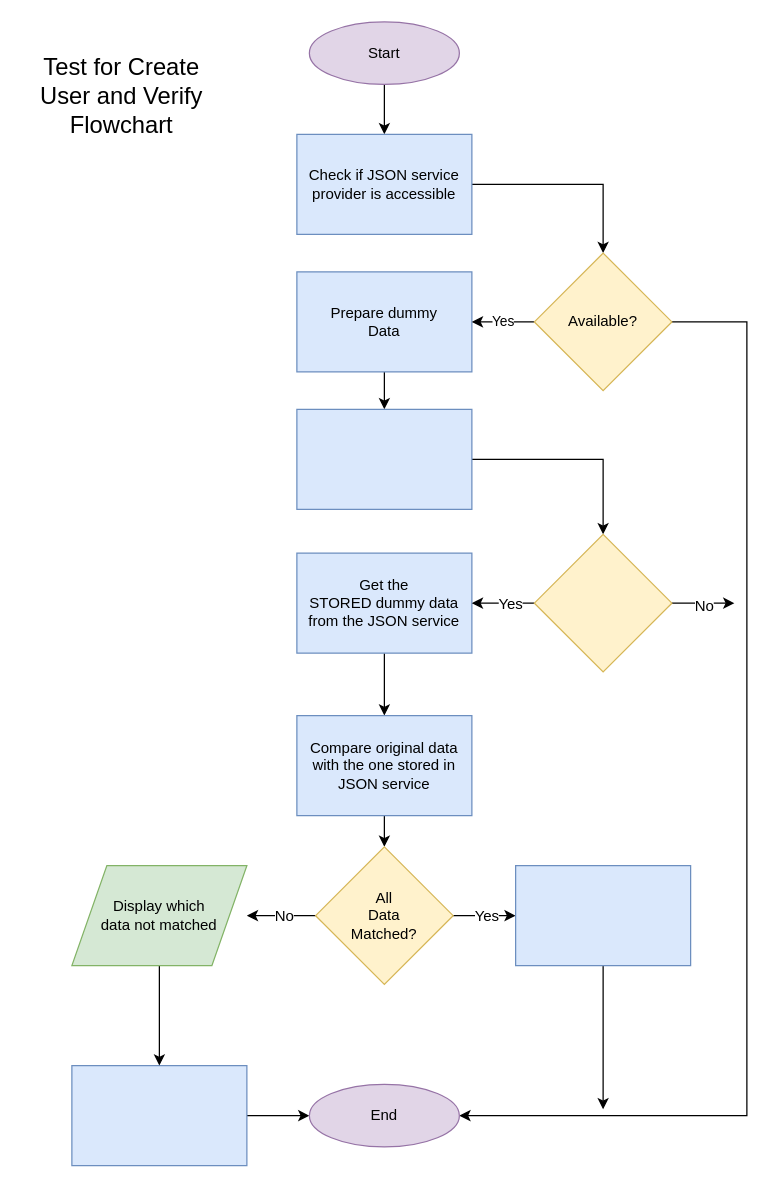
The diagram is 779 pixels wide and 1188 high, and some of its shapes have lost their labels. Here are the shapes that lost their labels. From the top down, the centre of each, then its label:
At [384,458]: "POST / STORE dummy data to JSON Service".
At [602,602]: "Success?".
At [602,915]: "Test PASSED".
At [159,1115]: "Test FAILED".
